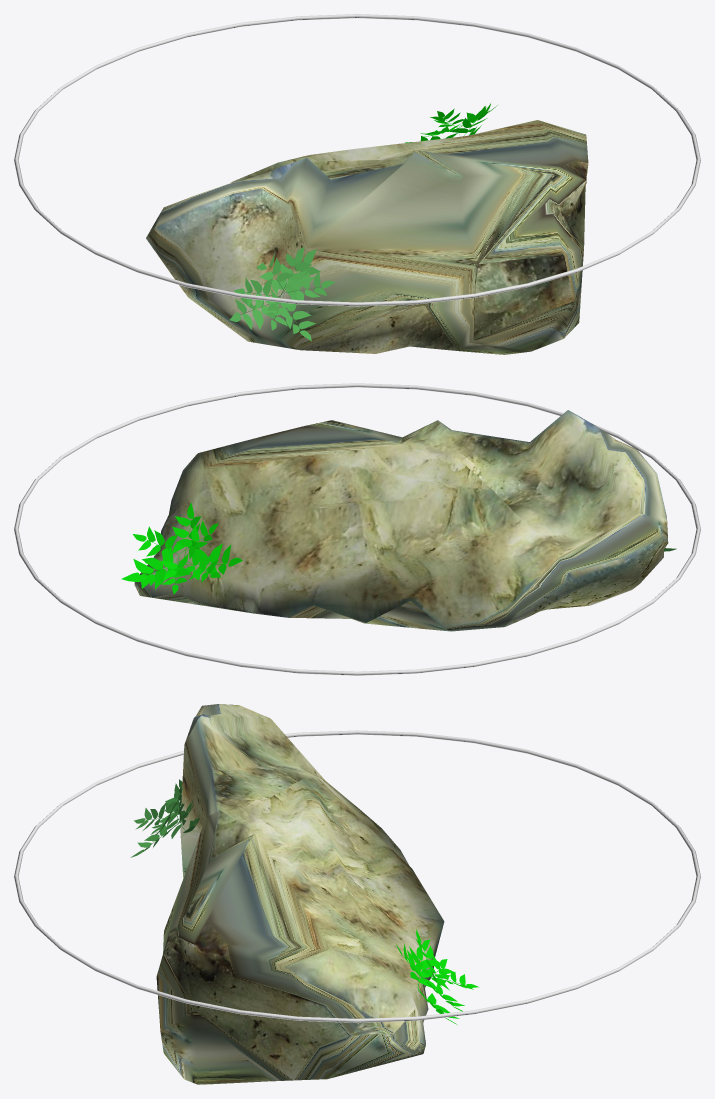
Rendered from static_rock.fbx.
The picture shows the model from 3 angles, top to bottom: view 1: azimuth 30°, elevation 25°; view 2: azimuth 150°, elevation 25°; view 3: azimuth 270°, elevation 25°; orthographic projection.
Parts seen in each view (by area): view 1: VMtl01_VMtl01, Torus, plant, plant.008; view 2: VMtl01_VMtl01, Torus, plant.008; view 3: VMtl01_VMtl01, Torus, plant.008, plant.
Boxes of the visible parts, left/top/right/bottom form: VMtl01_VMtl01: left=146, top=120, right=588, bottom=354; Torus: left=14, top=14, right=700, bottom=306; plant: left=229, top=246, right=335, bottom=341; plant.008: left=405, top=103, right=497, bottom=142; VMtl01_VMtl01: left=134, top=410, right=668, bottom=631; Torus: left=14, top=383, right=700, bottom=675; plant.008: left=121, top=502, right=242, bottom=594; VMtl01_VMtl01: left=156, top=704, right=444, bottom=1084; Torus: left=14, top=730, right=700, bottom=1022; plant.008: left=396, top=929, right=478, bottom=1024; plant: left=130, top=779, right=199, bottom=857.
Size of the model in its own units: 3.02 by 1.15 by 3.02.
3 materials, 1 textured.
